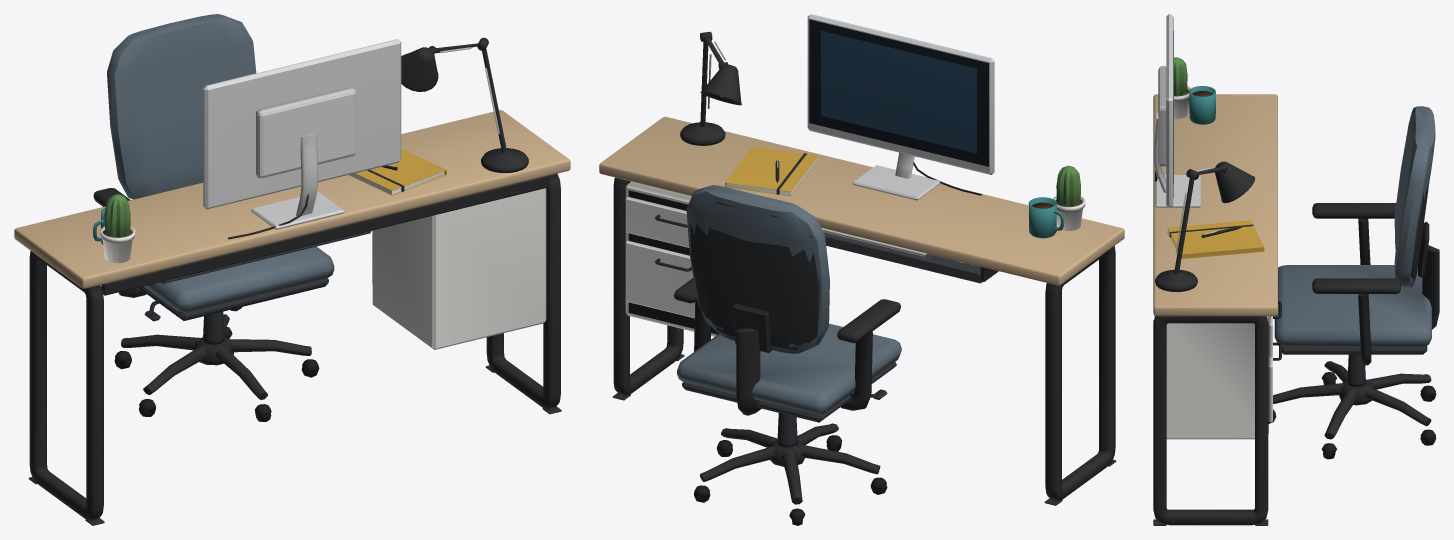
Rendered from computerDesk.glb.
3 views of the same model, side by side, from view 1: azimuth 30°, elevation 25°; view 2: azimuth 150°, elevation 25°; view 3: azimuth 270°, elevation 25° (orthographic). The views are drawn at different scales.
Parts seen in each view (by area): view 1: computerDesk, tray; view 2: computerDesk, tray; view 3: computerDesk.
Part boxes in pixels (left/top/right/bottom): computerDesk: left=14, top=14, right=570, bottom=525; tray: left=161, top=231, right=371, bottom=283; computerDesk: left=599, top=14, right=1124, bottom=525; tray: left=821, top=228, right=982, bottom=283; computerDesk: left=1153, top=14, right=1439, bottom=525.
Bounding box in the file's own units: 1.54 × 1.21 × 0.8724.
